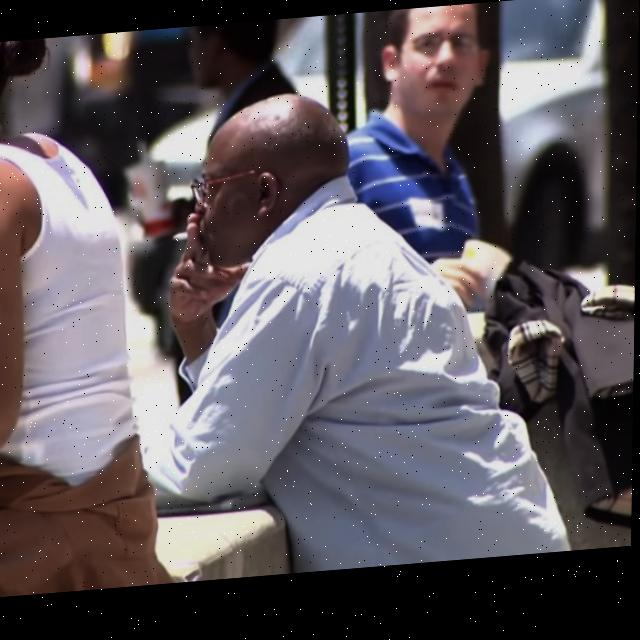cigarette: (172, 235, 188, 245)
